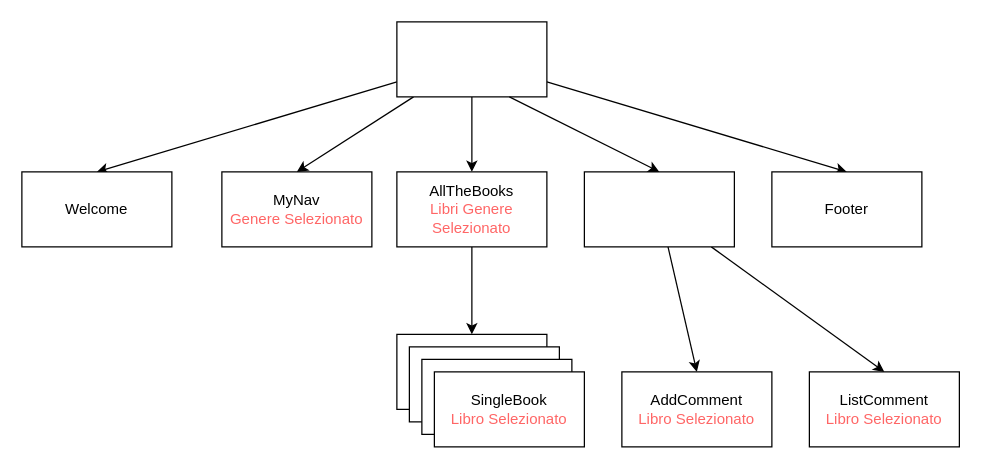
Some shapes in this 981 by 469 pixel diagram are drawn without their labels. The centre of each missing label's shape, as x and y in pixels:
App Theme: the point at 471,59
CommentArea: the point at 658,209
